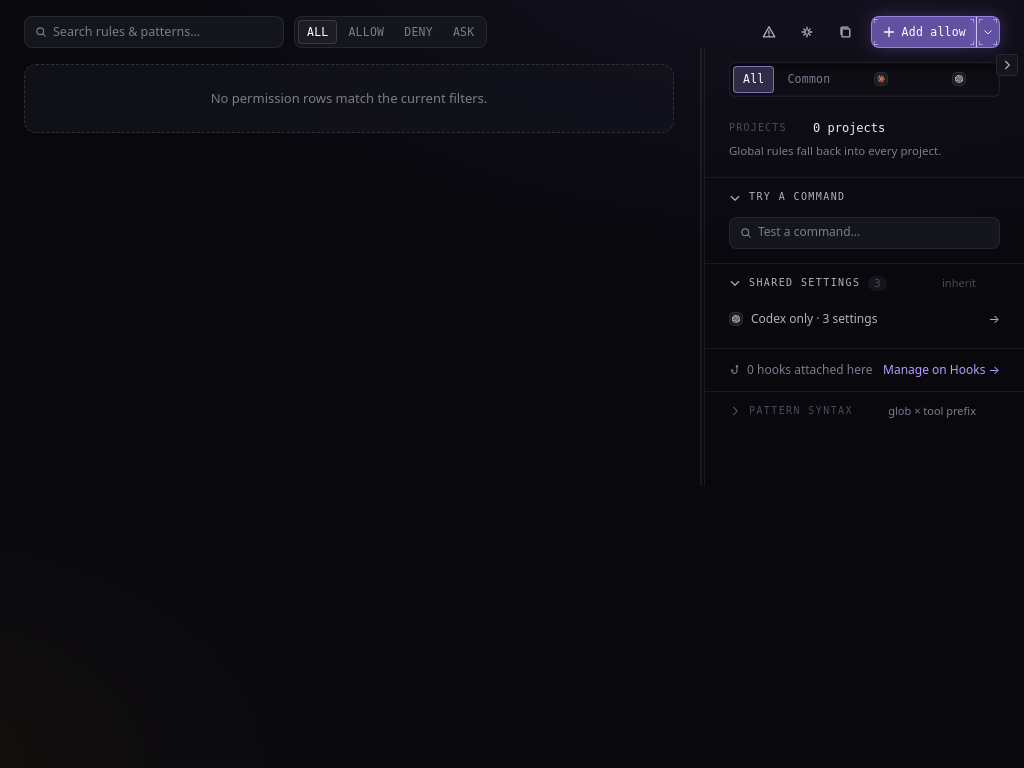
Test: PermissionsSidePanel — ONLY-group settings stack, not a row (regression) › renders every ONLY-group setting as a full-block sibling inside one [data-group="only"] container, and the label shows
Click the button named "Codex": point(959, 79) [921, 67, 996, 91]
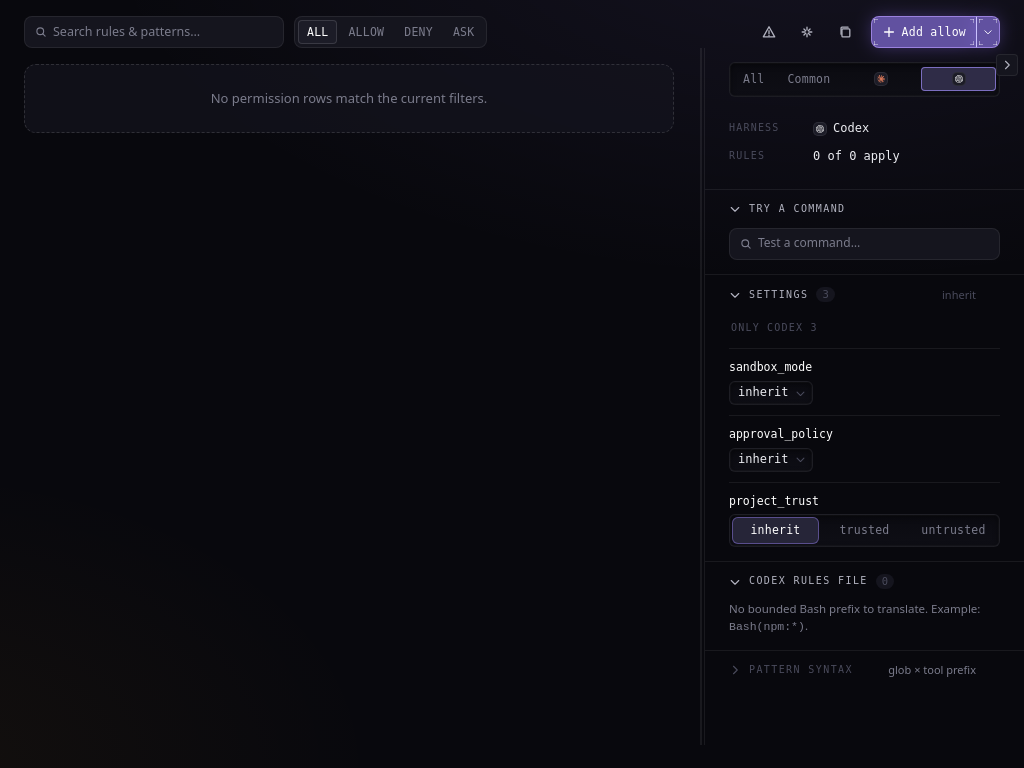
Now the text "sandbox_mode" is shown, box [729, 359, 812, 376]
Now the text "ONLY CODEX" is shown, box [731, 321, 818, 336]
Now the element that starts with "ONLY" is shown, box [729, 314, 1000, 547]
